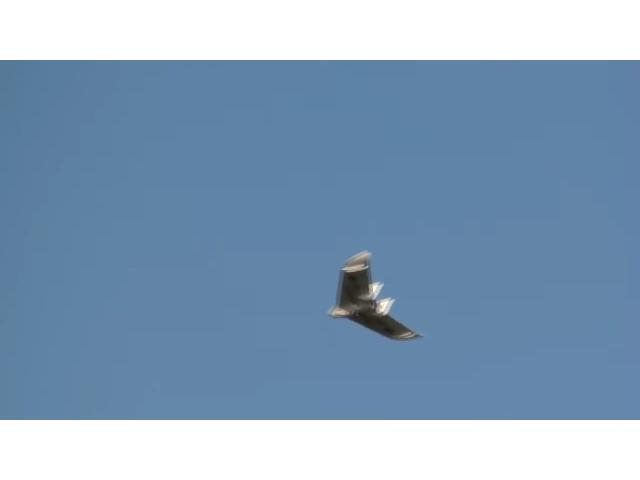Anti-Drone: (329, 253, 421, 339)
